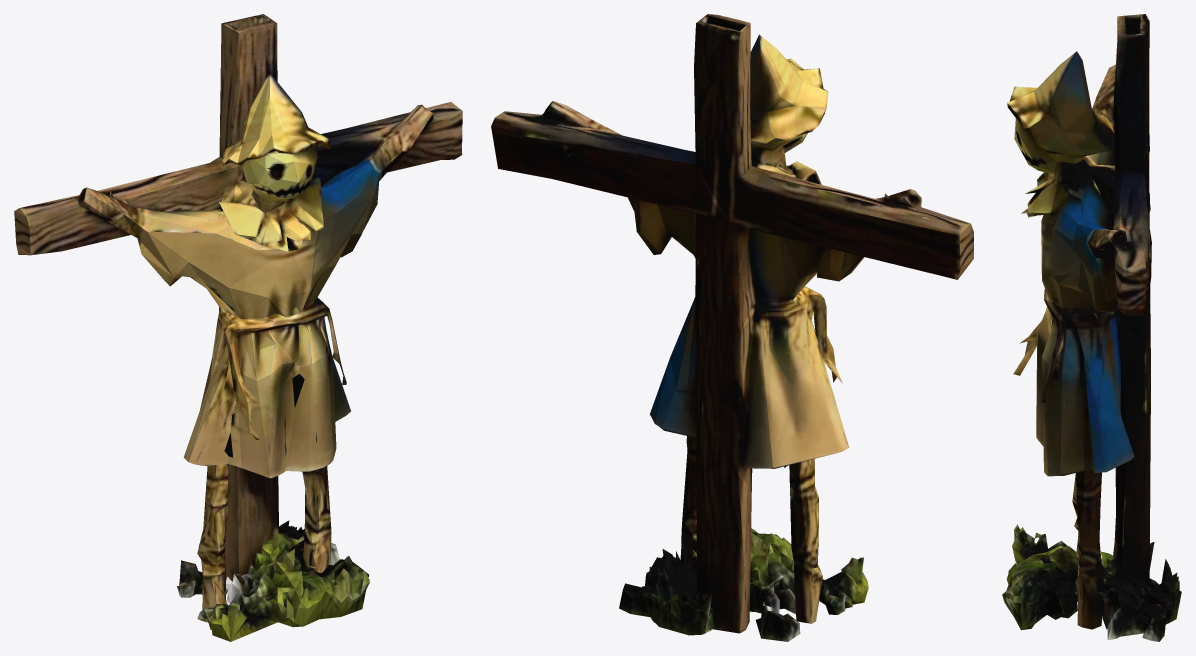
Rendered from farm_scarecrow_01.glb.
3 views of the same model, side by side, from view 1: azimuth 30°, elevation 25°; view 2: azimuth 150°, elevation 25°; view 3: azimuth 270°, elevation 25° (orthographic). The views are drawn at different scales.
Visible parts, largest first — view 1: geometry_0; view 2: geometry_0; view 3: geometry_0.
Boxes of the visible parts, x1,y1,x2,y2 form: geometry_0: [14, 14, 462, 641]; geometry_0: [491, 14, 973, 641]; geometry_0: [1002, 14, 1181, 641].
Size of the model in its own units: 0.8141 by 0.9989 by 0.281.
1 material, 1 textured.
